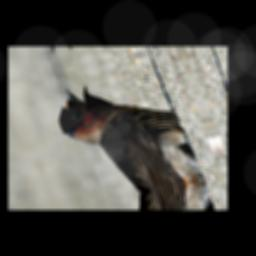Swallow: (46, 67, 206, 203)
